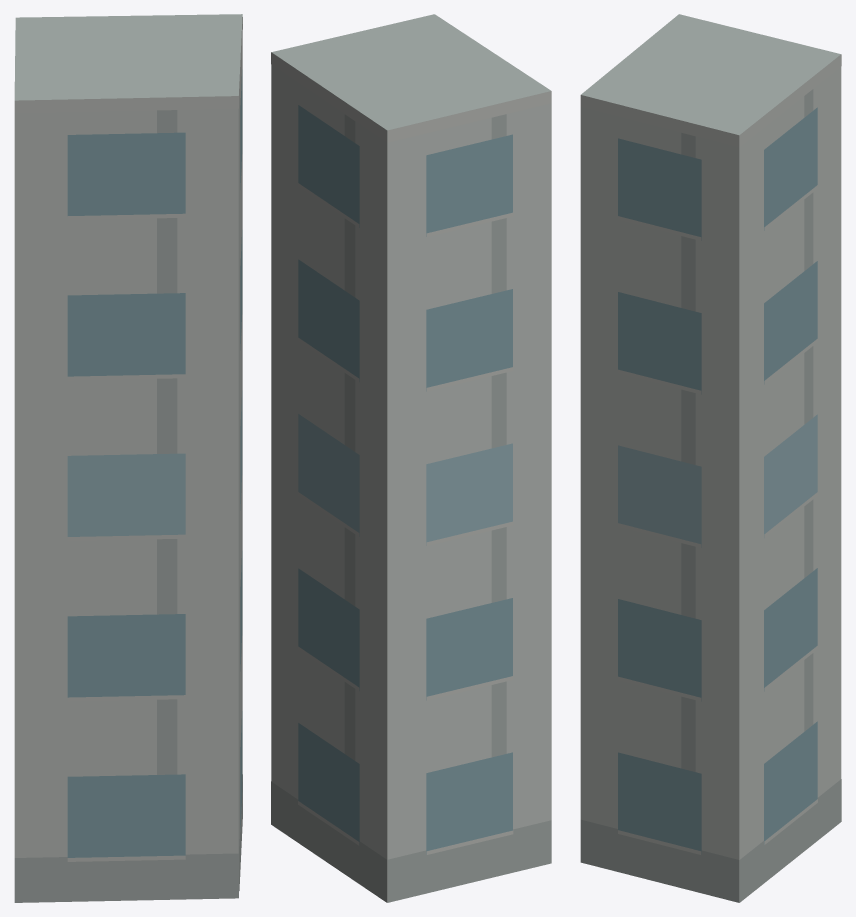
Rendered from survey-upis-32819398.glb.
3 views of the same model, side by side, from view 1: azimuth 30°, elevation 25°; view 2: azimuth 150°, elevation 25°; view 3: azimuth 270°, elevation 25° (orthographic). The views are drawn at different scales.
Visible parts, largest first — view 1: survey-upis-32819398.tmp; view 2: survey-upis-32819398.tmp; view 3: survey-upis-32819398.tmp.
Boxes of the visible parts, box(x1,y1,x2,y2) form: survey-upis-32819398.tmp: box(14, 14, 242, 902); survey-upis-32819398.tmp: box(271, 14, 551, 902); survey-upis-32819398.tmp: box(580, 14, 841, 902).
Bounding box in the file's own units: 5.17 × 15.25 × 4.7.
